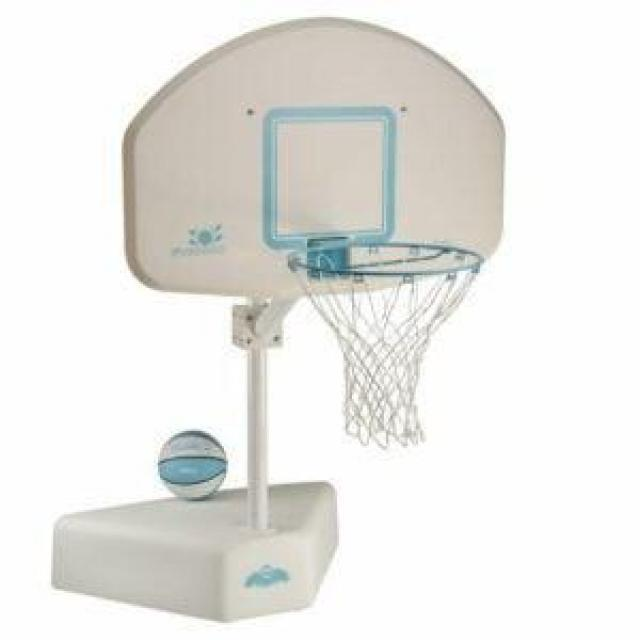Basketball: (160, 429, 228, 500)
hoop: (288, 238, 485, 451)
